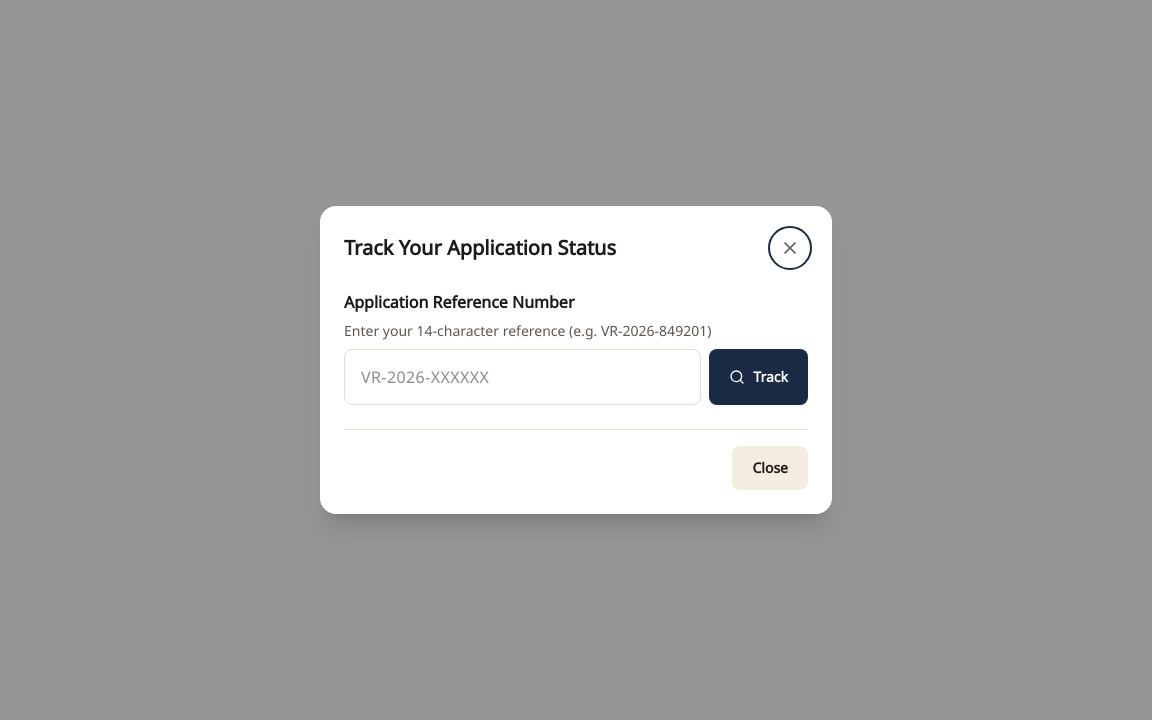
Test: TrackingModal Component › displays error for invalid reference number format
In the field with test id "tracking-reference-input": (523,377) [344, 349, 701, 405], type "VR-123"
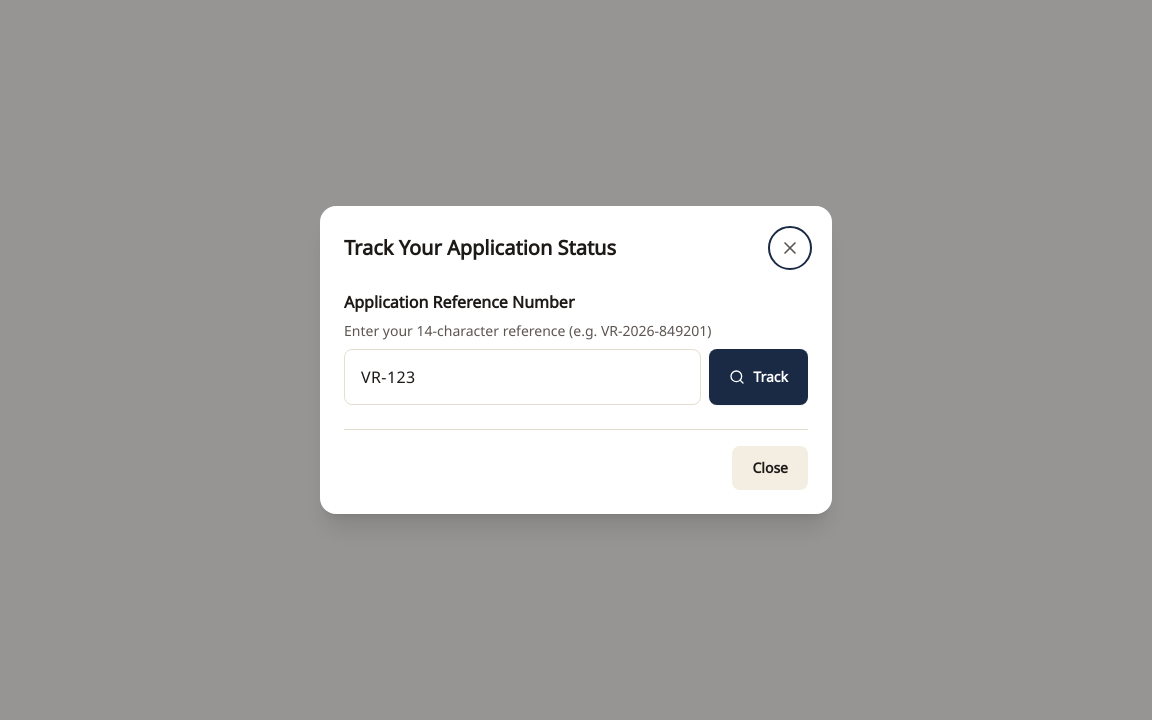
Click the button with test id "track-submit-btn": (759,377) [709, 349, 808, 405]
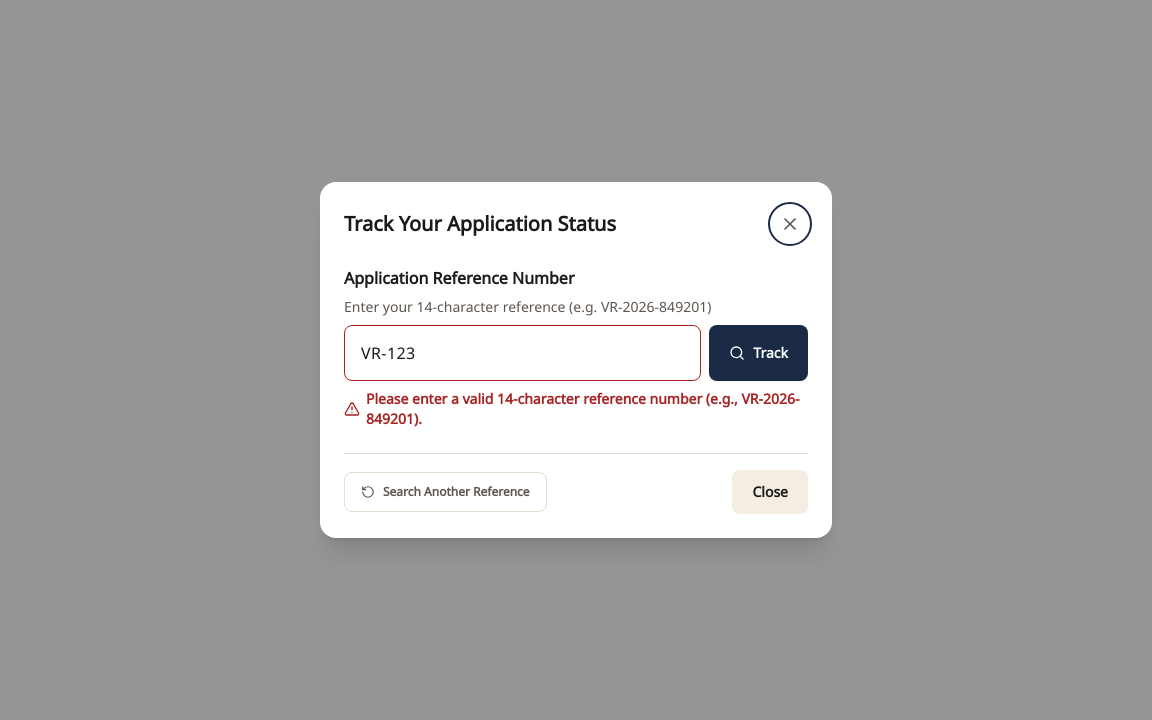
Expected: the text "Please enter a valid 14-character reference number" is shown, [366, 389, 800, 428]
